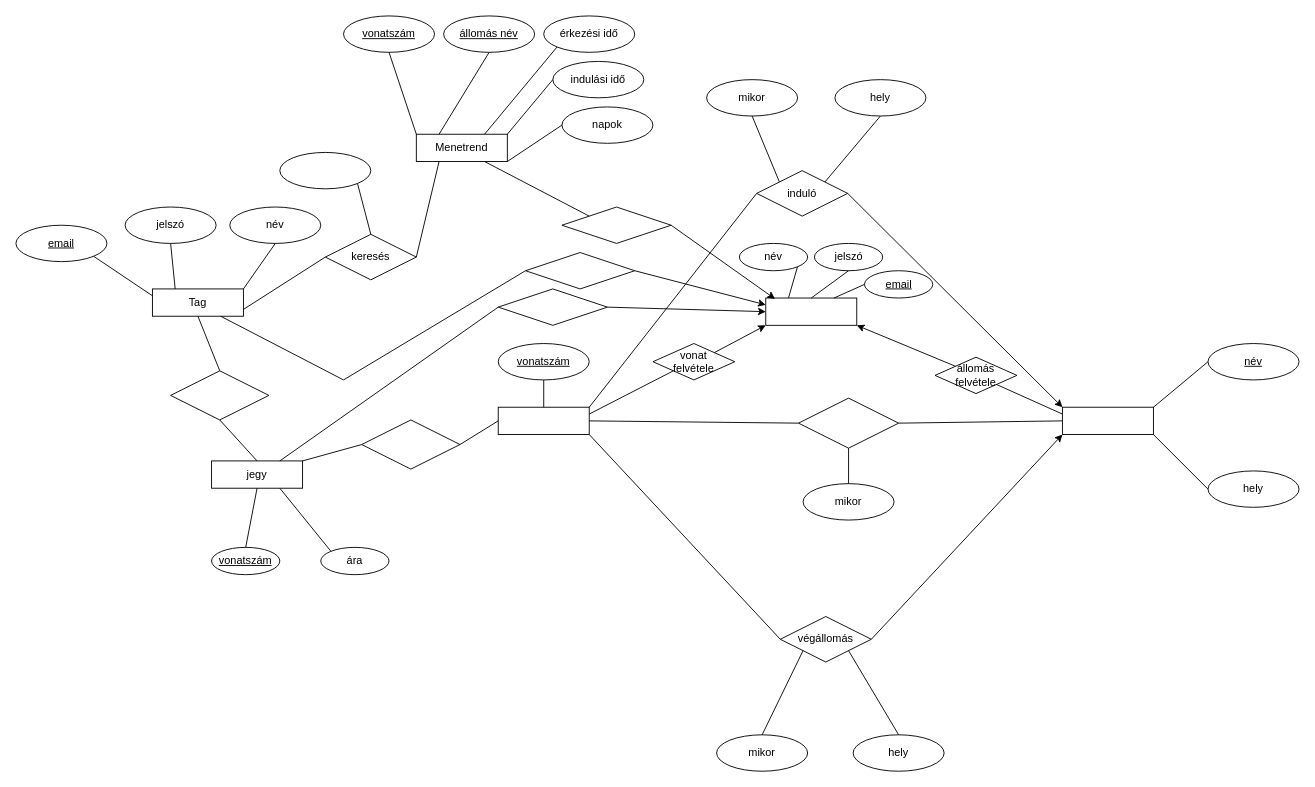
This 1315x787 diagram has some shape labels left out. The shapes that lost their labels are listed below. From the top down, each one's centre as x and y in pixels, then its label:
At [325,170]: "csatlakozás".
At [616,224]: "menetrend felvétele".
At [580,270]: "tag felvétele".
At [552,306]: "jegy felvétele".
At [811,311]: "Admin".
At [219,395]: "jegyei".
At [543,420]: "Vonat".
At [848,422]: "megáll".
At [1107,420]: "Állomás".
At [410,444]: "vásárlás".
